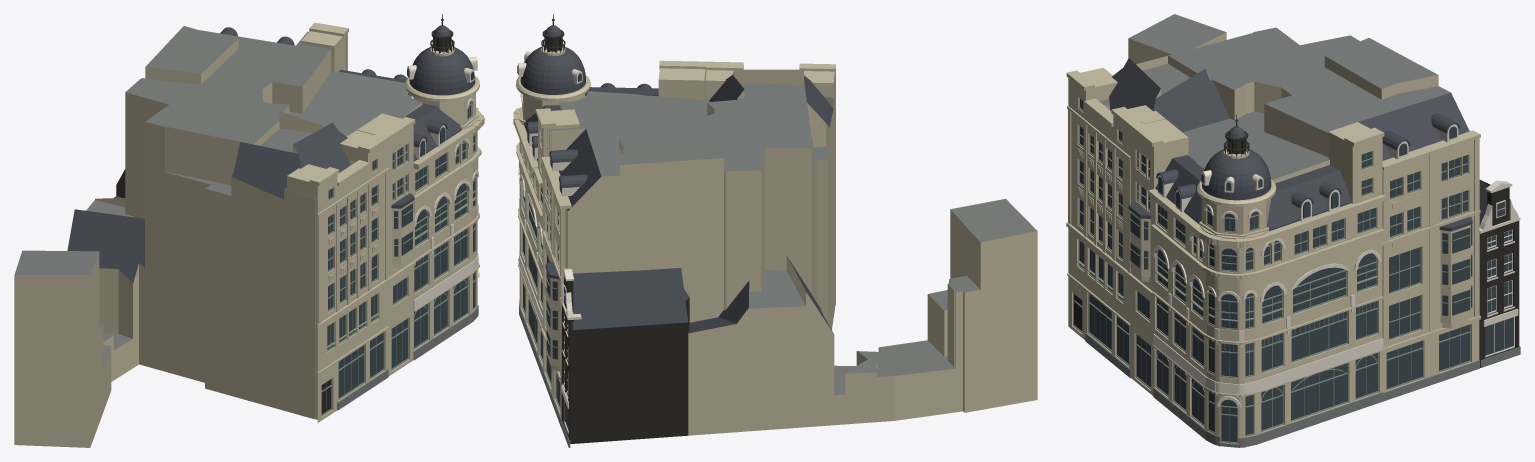
Rendered from nieuw-engeland.glb.
3 views of the same model, side by side, from view 1: azimuth 30°, elevation 25°; view 2: azimuth 150°, elevation 25°; view 3: azimuth 270°, elevation 25° (orthographic). The views are drawn at different scales.
Visible parts, largest first — view 1: nieuw-engeland; view 2: nieuw-engeland; view 3: nieuw-engeland.
Boxes of the visible parts, <box> form: nieuw-engeland: <box>14,14,484,447</box>; nieuw-engeland: <box>513,14,1037,447</box>; nieuw-engeland: <box>1066,14,1520,447</box>.
Bounding box in the file's own units: 50.87 × 29.65 × 38.48.
